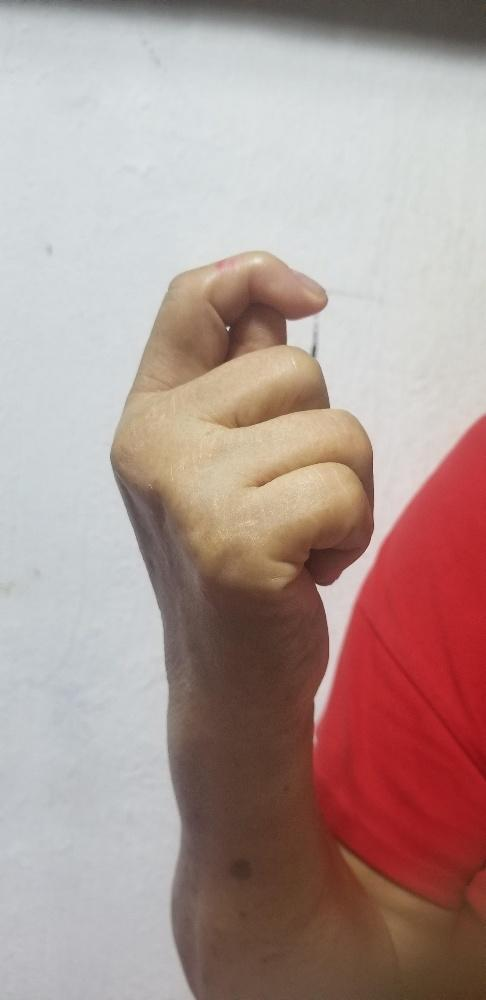t: (107, 249, 375, 686)
